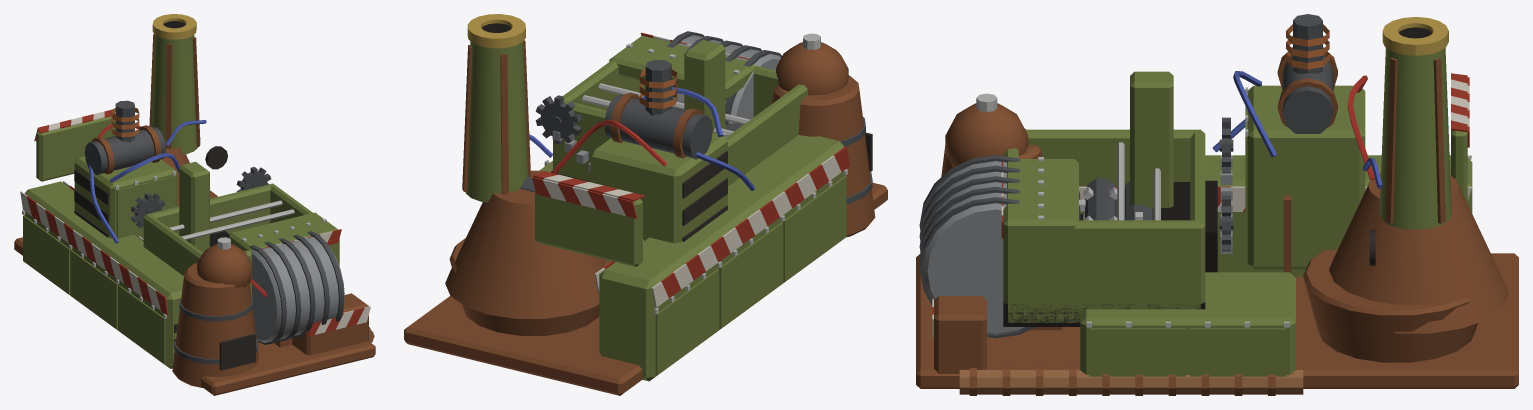
Rendered from recycler.glb.
The picture shows the model from 3 angles, left to right: view 1: azimuth 30°, elevation 25°; view 2: azimuth 150°, elevation 25°; view 3: azimuth 270°, elevation 25°; orthographic projection. The views are drawn at different scales.
Visible parts, largest first — view 1: body, anim_slide_recycler_drum, anim_slide_recycler_panel; view 2: body, anim_slide_recycler_panel, anim_slide_recycler_drum; view 3: body, anim_slide_recycler_drum, anim_slide_recycler_panel, anim_roll_recycler.001, anim_roll_recycler.002.
Part boxes in pixels (box(x1,y1,x2,y2)): body: box(14, 14, 375, 395); anim_slide_recycler_drum: box(249, 231, 344, 344); anim_slide_recycler_panel: box(34, 109, 115, 181); body: box(404, 14, 887, 395); anim_slide_recycler_panel: box(520, 171, 644, 266); anim_slide_recycler_drum: box(667, 31, 781, 124); body: box(916, 14, 1518, 395); anim_slide_recycler_drum: box(919, 155, 1035, 338); anim_slide_recycler_panel: box(1451, 73, 1469, 201); anim_roll_recycler.001: box(1083, 178, 1117, 220); anim_roll_recycler.002: box(1124, 181, 1152, 220).
Size of the model in its own units: 2.15 by 2.45 by 4.
